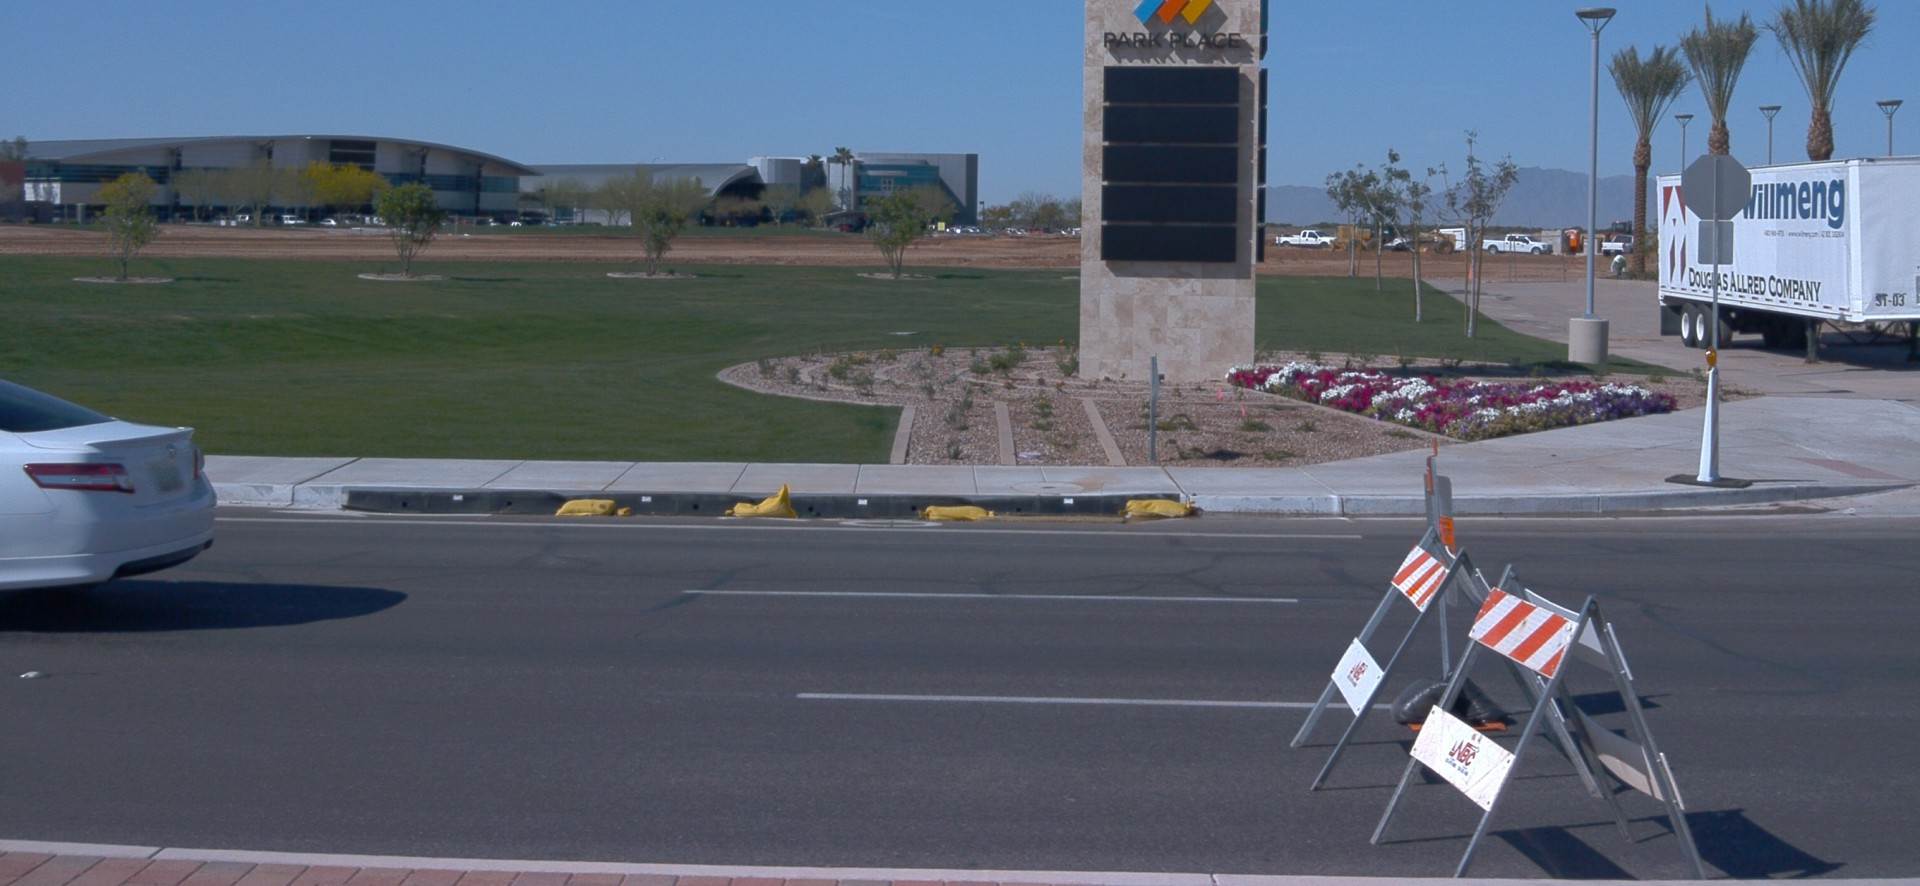TYPE_PEDESTRIAN: (1609, 256, 1625, 278)
TYPE_VEHICLE: (1657, 148, 1920, 358), (0, 370, 220, 603), (1337, 208, 1457, 258), (1484, 233, 1554, 256), (1274, 228, 1339, 248), (1433, 225, 1467, 253), (1599, 237, 1641, 258), (1603, 223, 1637, 246), (1382, 230, 1412, 251), (282, 216, 306, 226), (212, 214, 235, 224), (236, 214, 255, 224), (1071, 226, 1081, 240), (317, 221, 336, 227), (511, 224, 521, 227)
